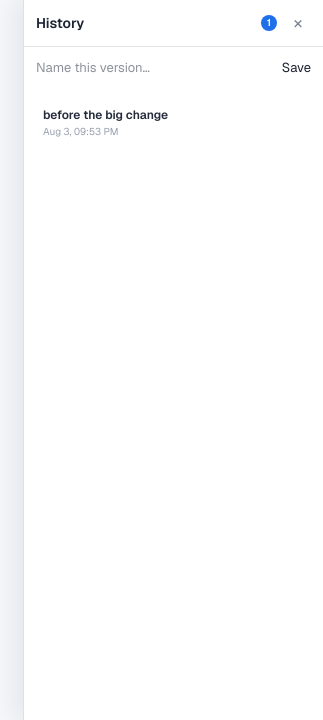
Test: VersionsPanel › refuses to restore a version identical to what is open
Click the text "before the big change" at (106, 116), box [43, 107, 168, 124]
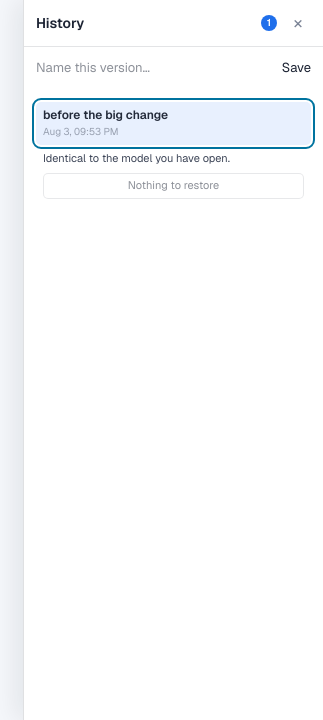
Expected: the text "Identical to the model you have open." is shown, [43, 151, 230, 165]
Expected: the button "Nothing to restore" is disabled, [43, 173, 304, 199]
